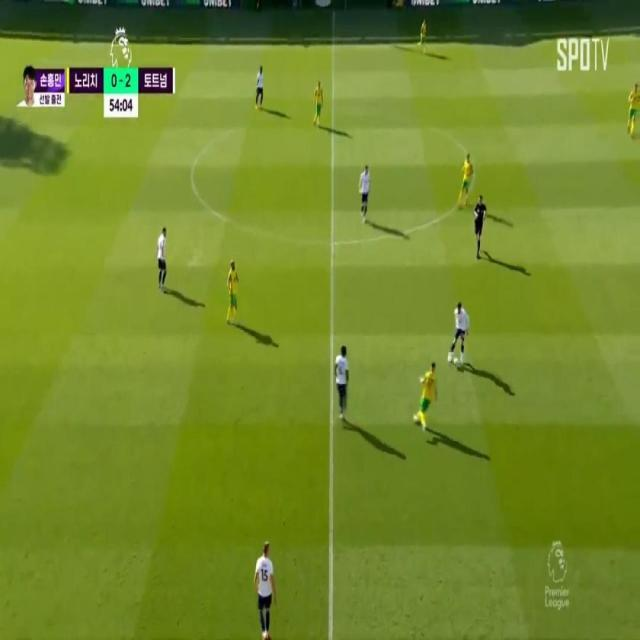ball: (451, 349, 463, 383)
player: (414, 363, 439, 441), (448, 295, 470, 376), (255, 542, 274, 635), (333, 338, 352, 416), (621, 75, 639, 137), (311, 71, 328, 130), (458, 150, 473, 211), (157, 221, 170, 287), (227, 262, 240, 319), (358, 161, 370, 222), (256, 63, 268, 109), (419, 19, 428, 58)
referee: (473, 195, 487, 252)
